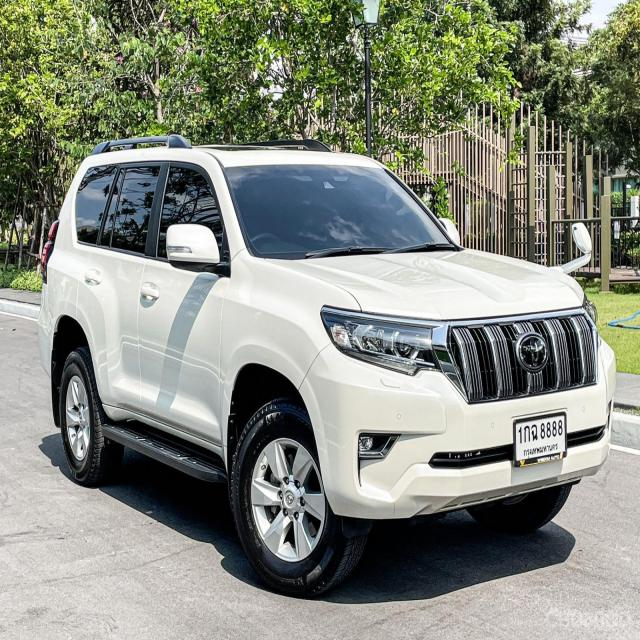license_plate: (509, 408, 570, 469)
